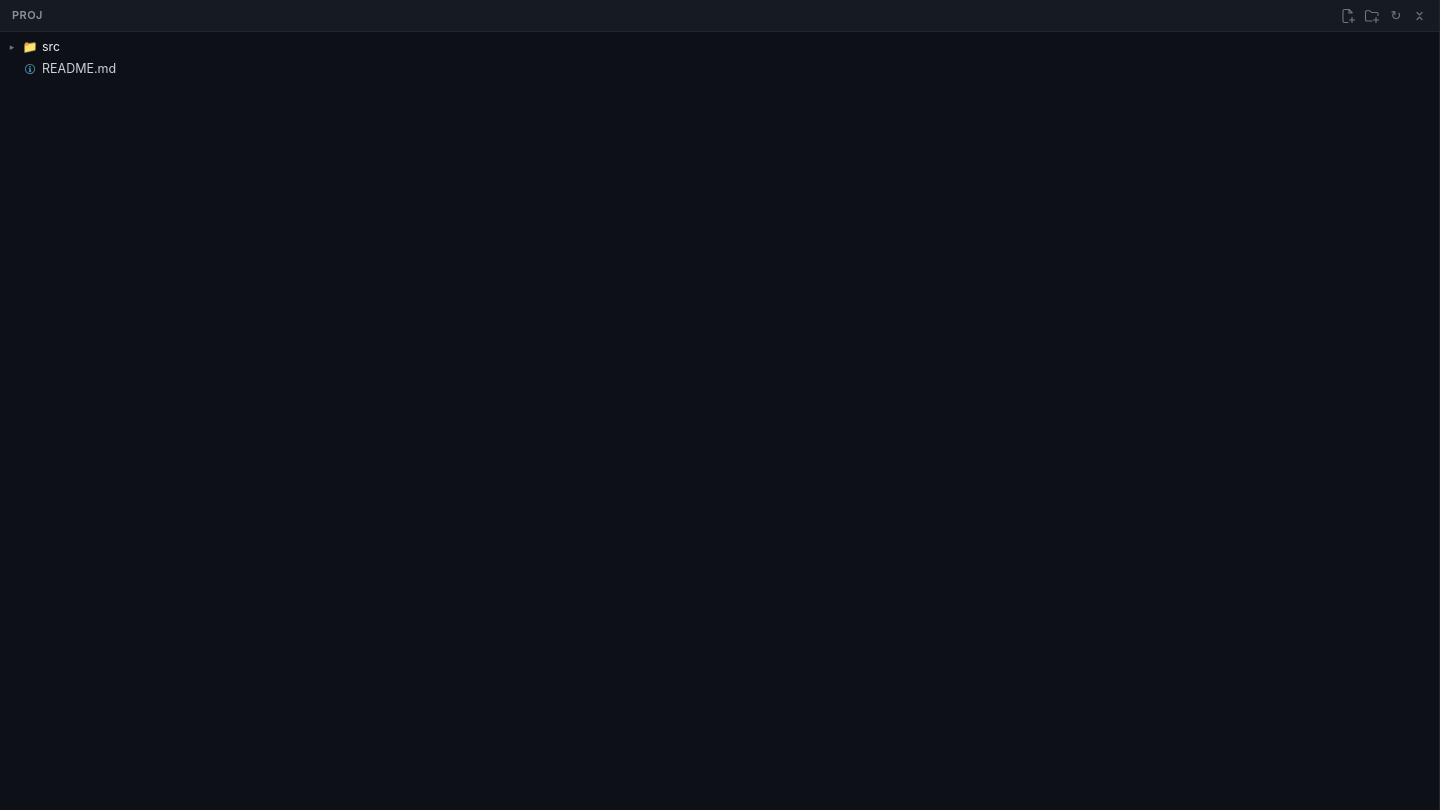
Test case: FileExplorer › collapses all expanded folders
Click the text "src".
click(51, 47)  # box [42,37,60,57]
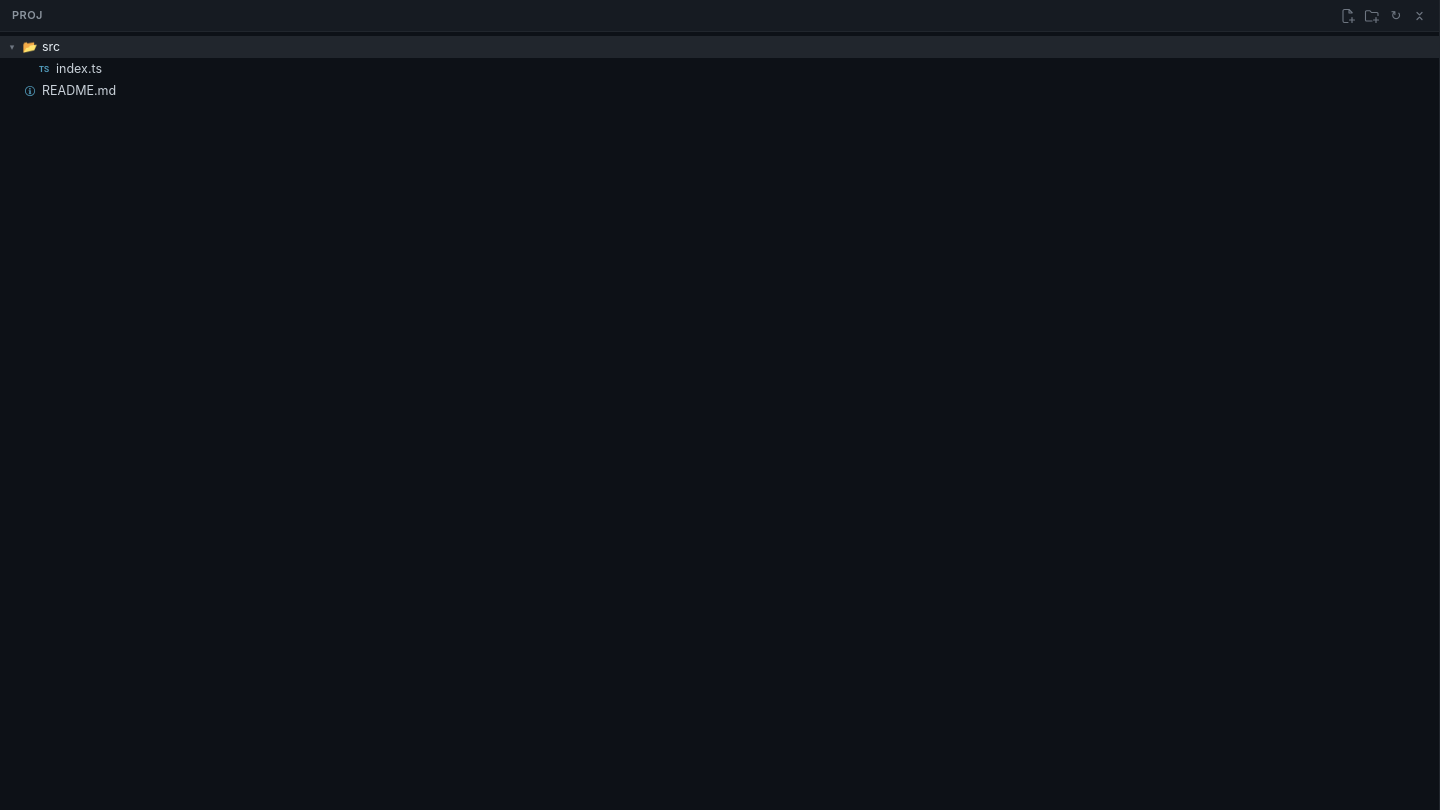
Now the text "index.ts" is shown, box [56,59,102,79]
Click the button named "모두 접기".
click(1420, 16)  # box [1409,4,1431,26]
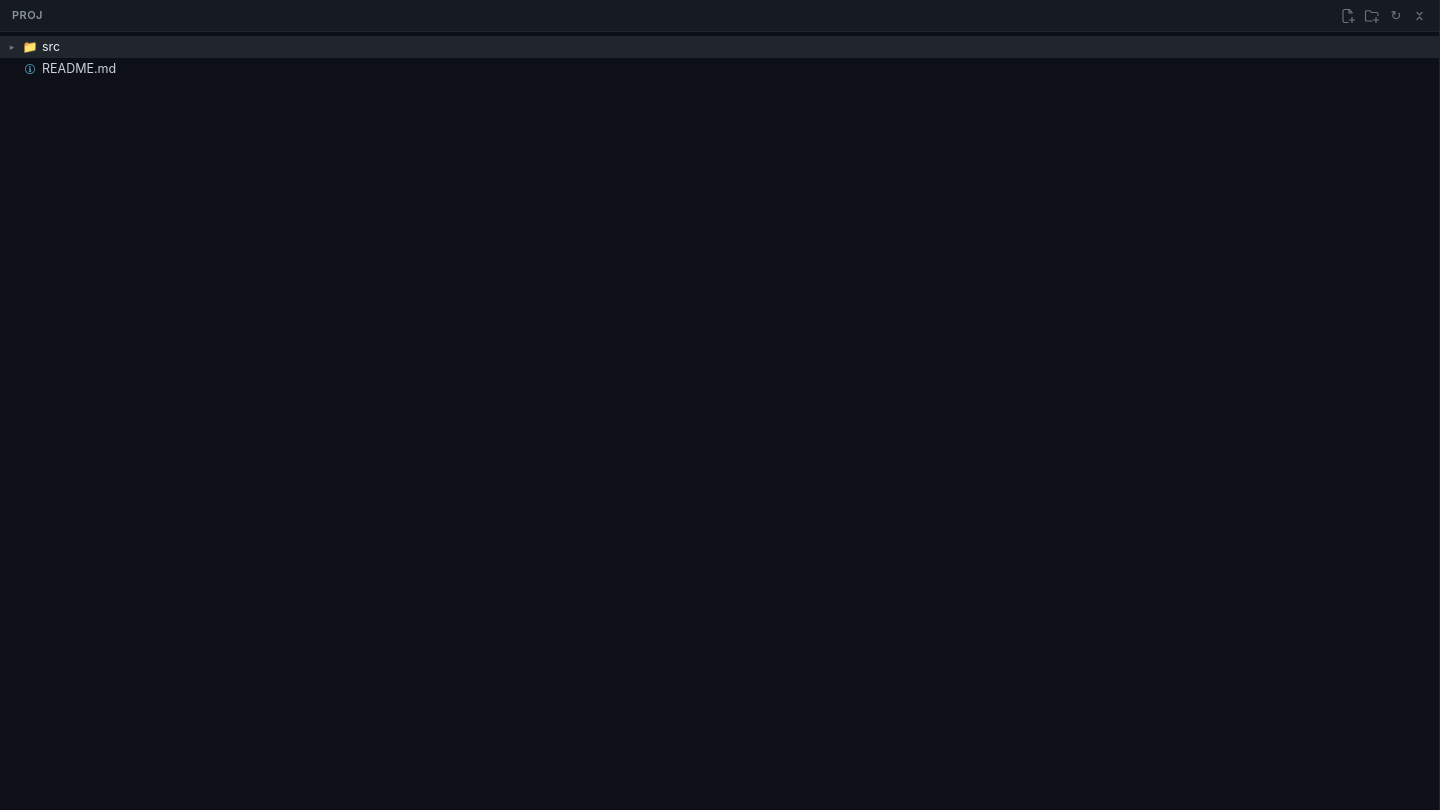
Now the text "index.ts" is gone
